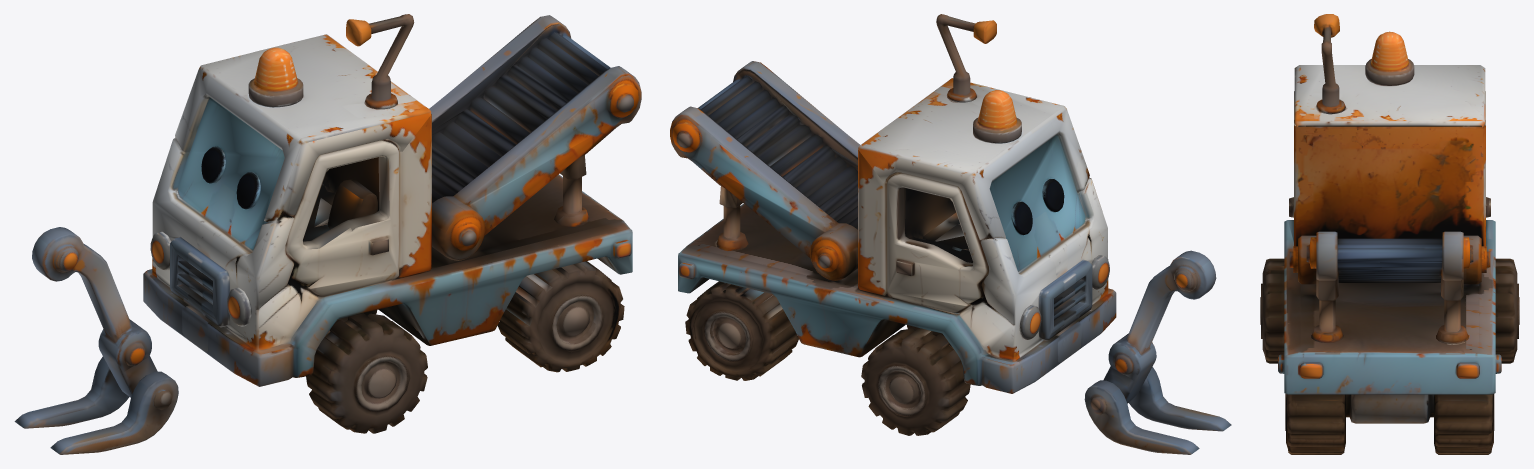
File: cargo_loader.glb
The picture shows the model from 3 angles, left to right: view 1: azimuth 30°, elevation 25°; view 2: azimuth 150°, elevation 25°; view 3: azimuth 270°, elevation 25°; orthographic projection. The views are drawn at different scales.
Parts seen in each view (by area): view 1: material; view 2: material; view 3: material.
Part boxes in pixels (x1=…): material: x1=14, y1=14, x2=641, y2=454; material: x1=670, y1=14, x2=1231, y2=454; material: x1=1260, y1=14, x2=1519, y2=454.
Bounding box in the file's own units: 1.9 × 1.24 × 0.8362.
1 material, 1 textured.
